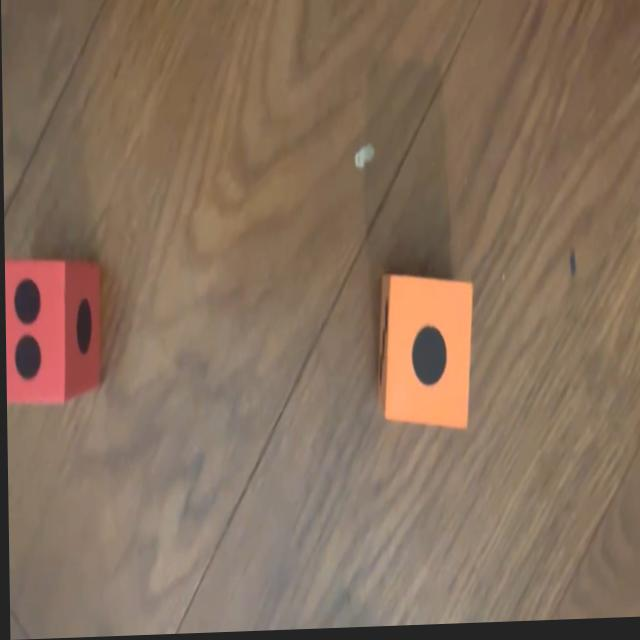red_block: (3, 261, 101, 404)
